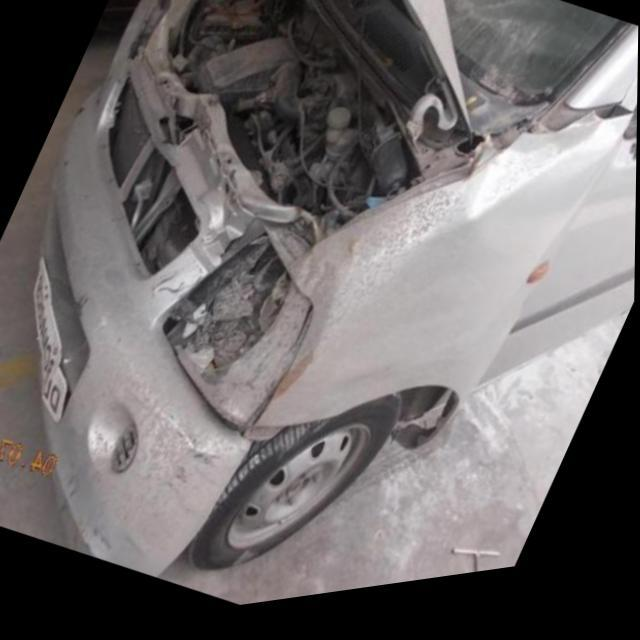crack: (522, 116, 631, 163), (92, 529, 115, 554), (68, 294, 90, 320)
dent: (56, 474, 80, 514)
dislocated part: (388, 176, 613, 467)
lamp broken: (153, 233, 316, 446), (95, 0, 163, 103)
no part: (95, 75, 205, 288), (143, 208, 333, 312)
scratch: (158, 422, 218, 508), (119, 536, 146, 561)
